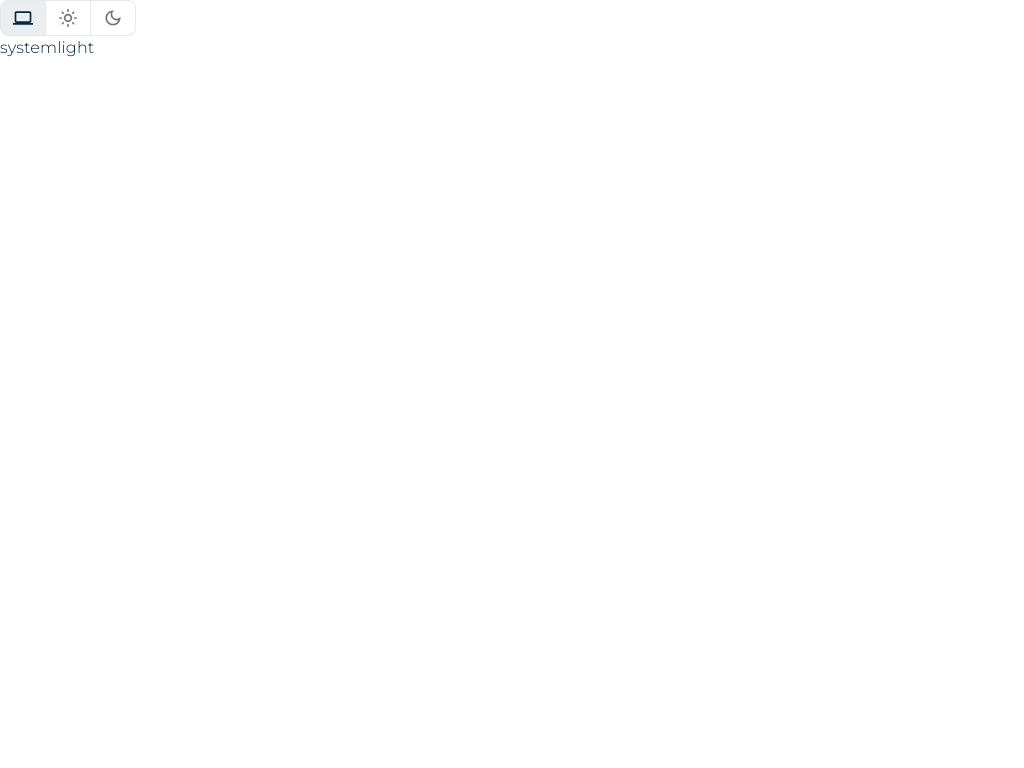
ThemeToggle › updates mode to light when light is selected
The image size is (1024, 768).
Click the button named "Dark" at (113, 18), box [90,0,136,36]
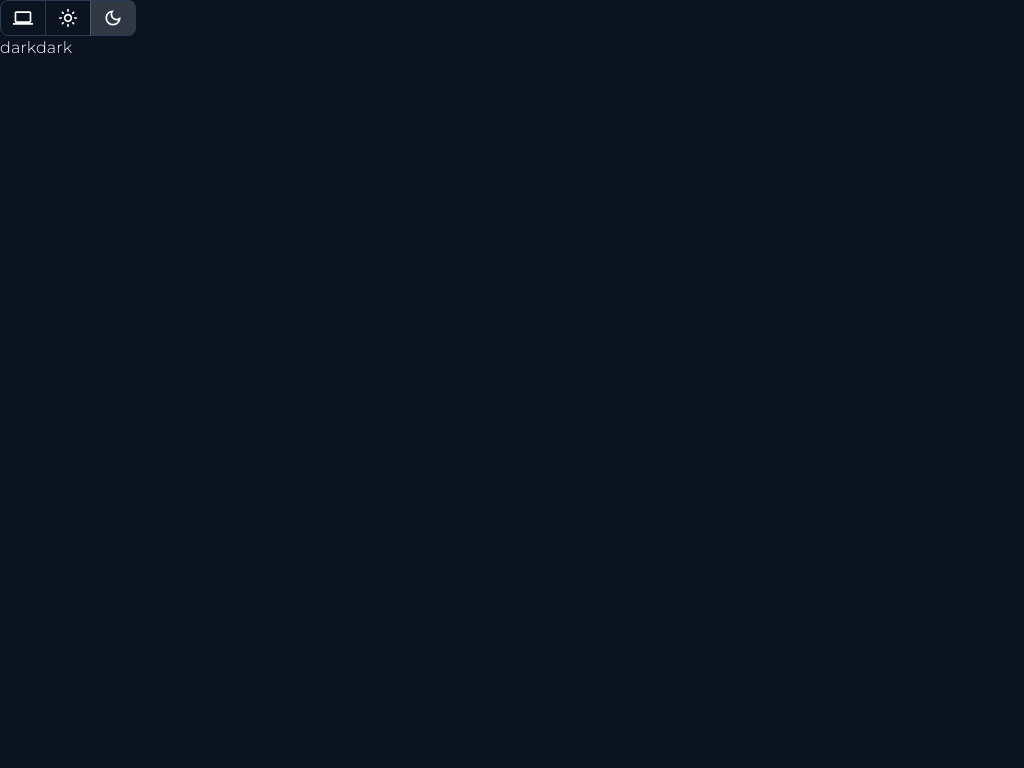
Click the button named "Light" at (68, 18), box [45,0,91,36]
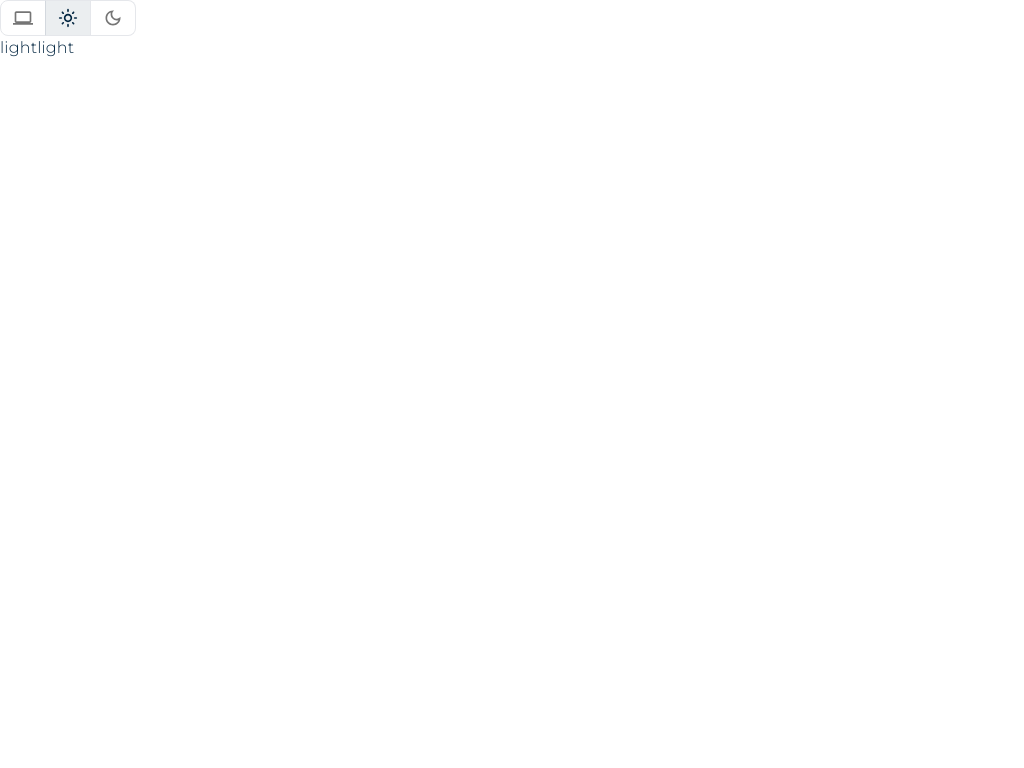
Now the text with test id "mode" reads "light", box [0,38,37,57]
Now the text with test id "resolved" reads "light", box [37,38,74,57]
